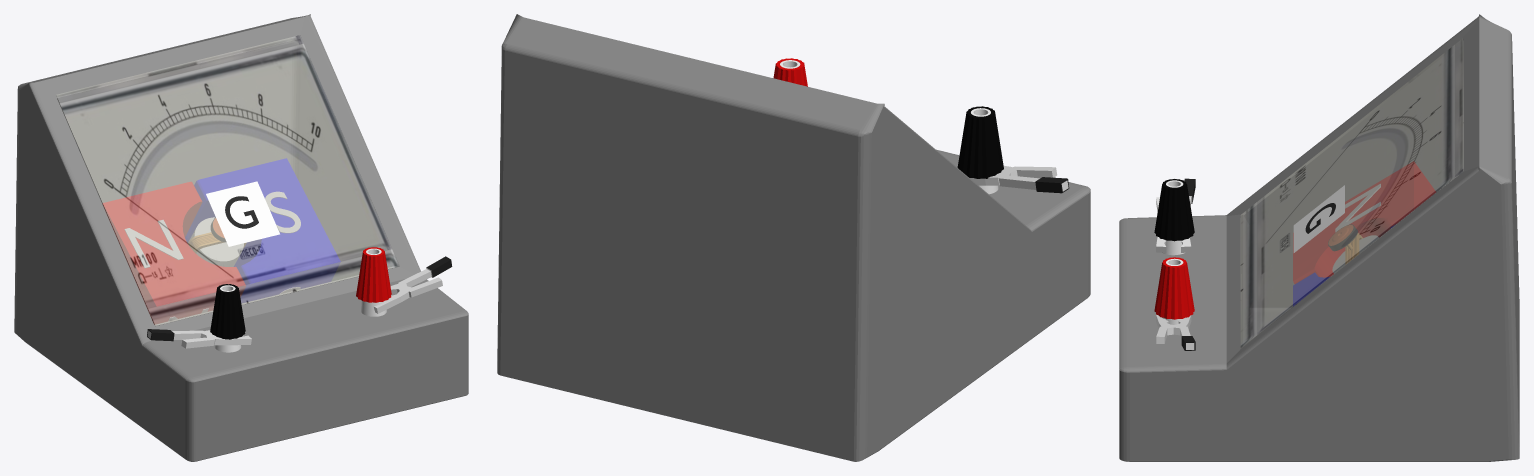
Rendered from UpdatedGalvanometer.gltf.
The picture shows the model from 3 angles, left to right: view 1: azimuth 30°, elevation 25°; view 2: azimuth 150°, elevation 25°; view 3: azimuth 270°, elevation 25°; orthographic projection. The views are drawn at different scales.
Visible parts, largest first — view 1: Cube_Material.004_0, Cube.003, Cube.004, Cube.008, Cylinder, Cylinder.001, Cylinder.008; view 2: Cube_Material.004_0, Cylinder.001, Cube.008, Cylinder; view 3: Cube_Material.004_0, Cube.003, Cube.004, Cylinder.001, Cylinder, Cube.008, Cylinder.006.
Boxes of the visible parts, x1,y1,x2,y2 form: Cube_Material.004_0: [14, 14, 468, 461]; Cube.003: [56, 35, 399, 326]; Cube.004: [103, 158, 340, 324]; Cube.008: [147, 256, 452, 348]; Cylinder: [356, 247, 391, 316]; Cylinder.001: [210, 284, 245, 352]; Cylinder.008: [189, 217, 243, 266]; Cube_Material.004_0: [497, 14, 1090, 461]; Cylinder.001: [957, 106, 1003, 194]; Cube.008: [970, 165, 1069, 193]; Cylinder: [773, 58, 807, 86]; Cube_Material.004_0: [1119, 14, 1519, 461]; Cube.003: [1240, 38, 1463, 348]; Cube.004: [1293, 161, 1435, 306]; Cylinder.001: [1154, 179, 1194, 255]; Cylinder: [1154, 257, 1194, 329]; Cube.008: [1156, 178, 1195, 350]; Cylinder.006: [1328, 224, 1357, 250].
Bounding box in the file's own units: 2.57 × 2.16 × 2.65.
17 materials, 1 textured.
